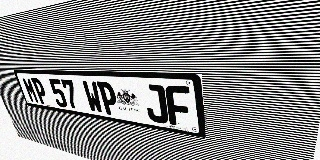5: (48, 79, 69, 108)
7: (60, 79, 81, 110)
F: (165, 85, 192, 128)
J: (143, 84, 169, 124)
M: (21, 77, 40, 104)
P: (96, 81, 120, 116), (30, 78, 50, 105)
W: (82, 81, 104, 114)
